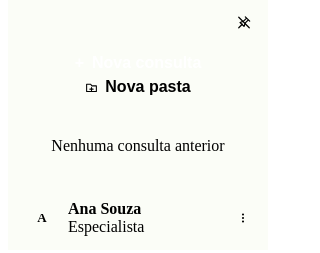
it: Menu do usuário (Editar perfil / Sair) › abre UM menu só com a barra fixada
Click the text "Ana Souza" at {"x": 105, "y": 208}, box x1=68 y1=200 x2=141 y2=217
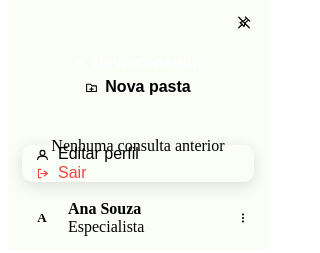
Now the number of elements with test id "menu-do-usuario" is 1, box x1=22 y1=145 x2=254 y2=182
Now the number of buttons "Editar perfil" is 1, box x1=22 y1=145 x2=254 y2=163
Now the number of buttons "Sair" is 1, box x1=22 y1=164 x2=254 y2=182
